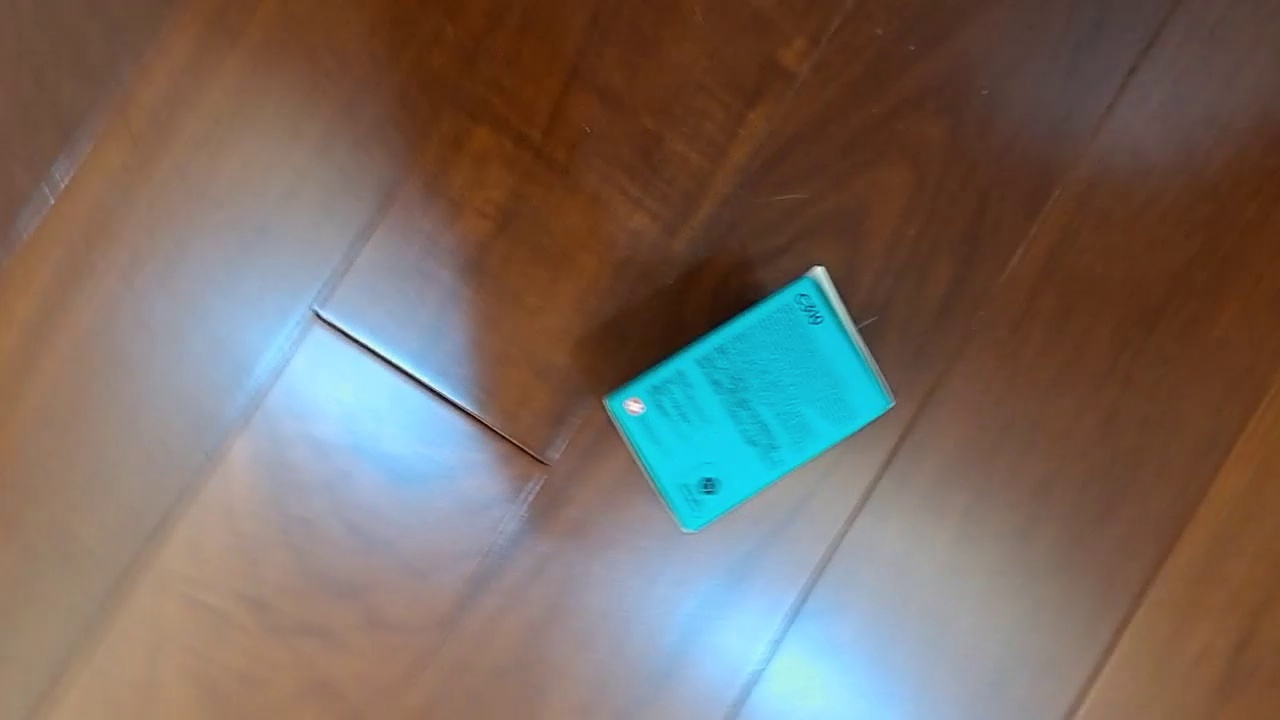webcam: (600, 265, 898, 534)
